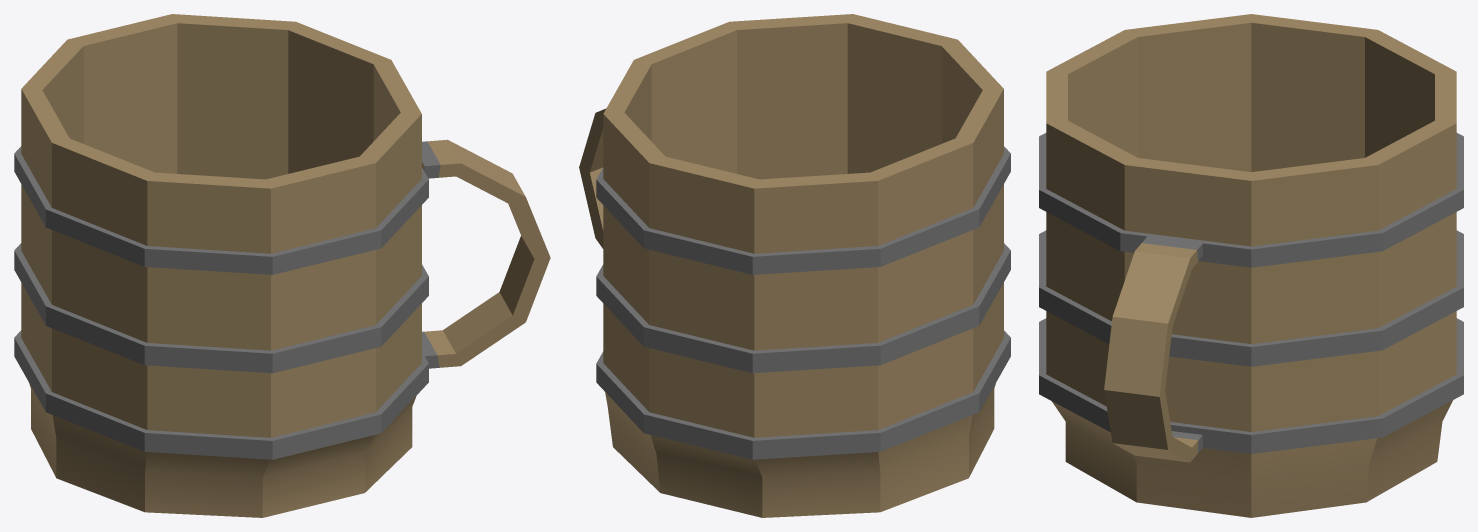
Rendered from Vessel.fbx.
3 renders of one model, left to right at view 1: azimuth 30°, elevation 25°; view 2: azimuth 150°, elevation 25°; view 3: azimuth 270°, elevation 25°, orthographic.
Parts seen in each view (by area): view 1: pCylinder3; view 2: pCylinder3; view 3: pCylinder3.
Part boxes in pixels (x1,y1,x2,y2): pCylinder3: [14, 14, 550, 517]; pCylinder3: [579, 14, 1010, 517]; pCylinder3: [1039, 14, 1463, 517].
Size of the model in its own units: 1.89 by 1.36 by 1.55.
